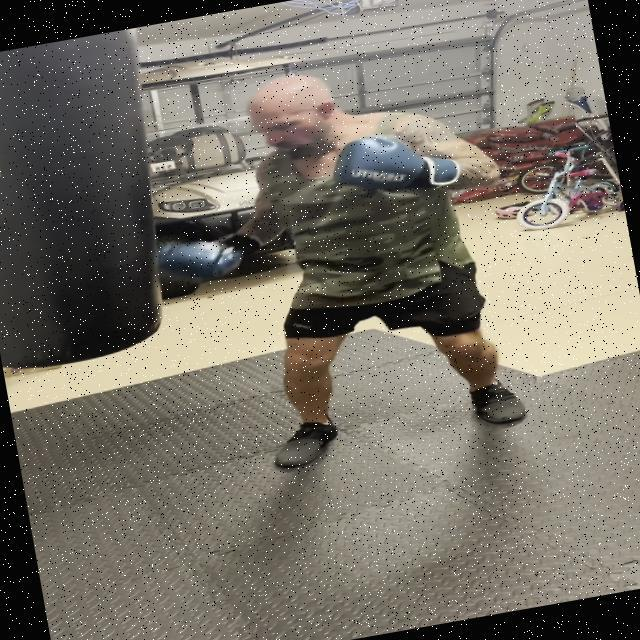bag: (0, 25, 207, 378)
uppercut: (122, 40, 514, 322)
